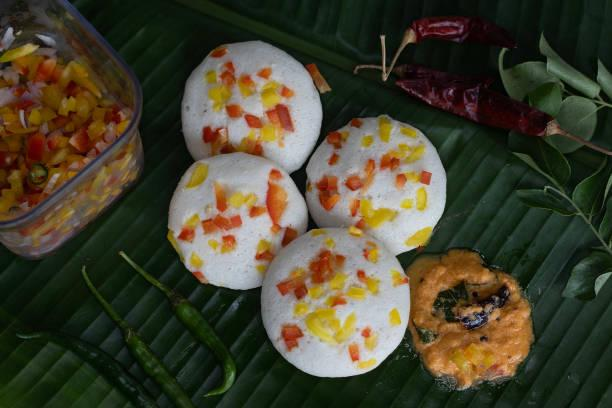coconut chutney: (414, 253, 530, 391)
idli: (171, 46, 440, 382)
